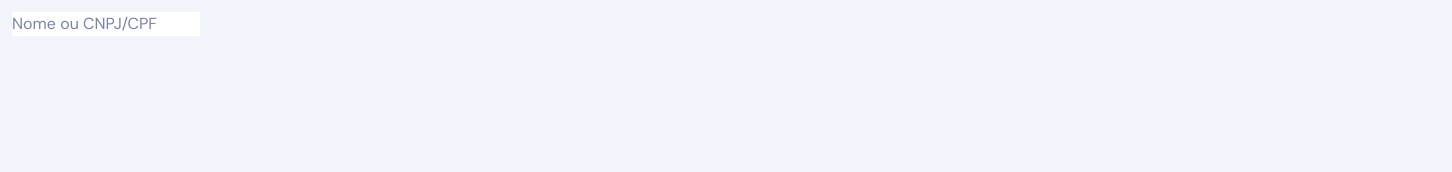
Scenario: pickers › PersonPicker mostra erro da busca com "Tentar de novo"
This screenshot has width=1452, height=172.
Type "ana" into the dropdown named "Pessoa" at coordinates (106, 24), box [12, 12, 200, 36]
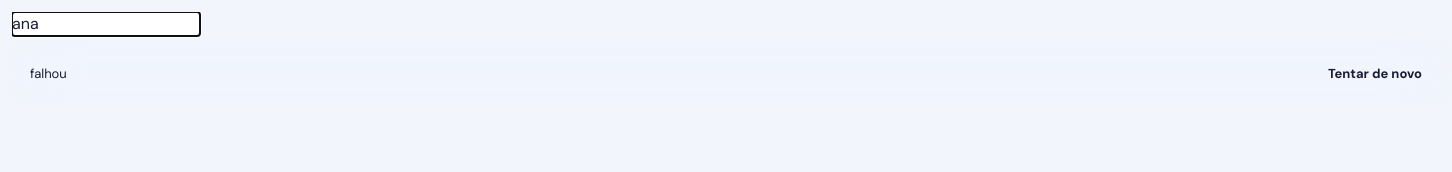
Check: the message "falhou Tentar de novo" is shown, box [18, 48, 1446, 100]
Click the button "Tentar de novo" at coordinates (1375, 74), box [1316, 58, 1434, 90]
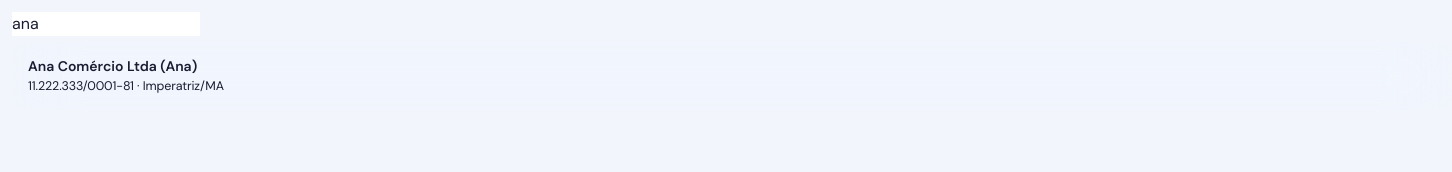
Check: the option "Ana Comércio Ltda (Ana) 11.222.333/0001-81 · Imperatriz/MA" is shown, box [18, 48, 1446, 104]
